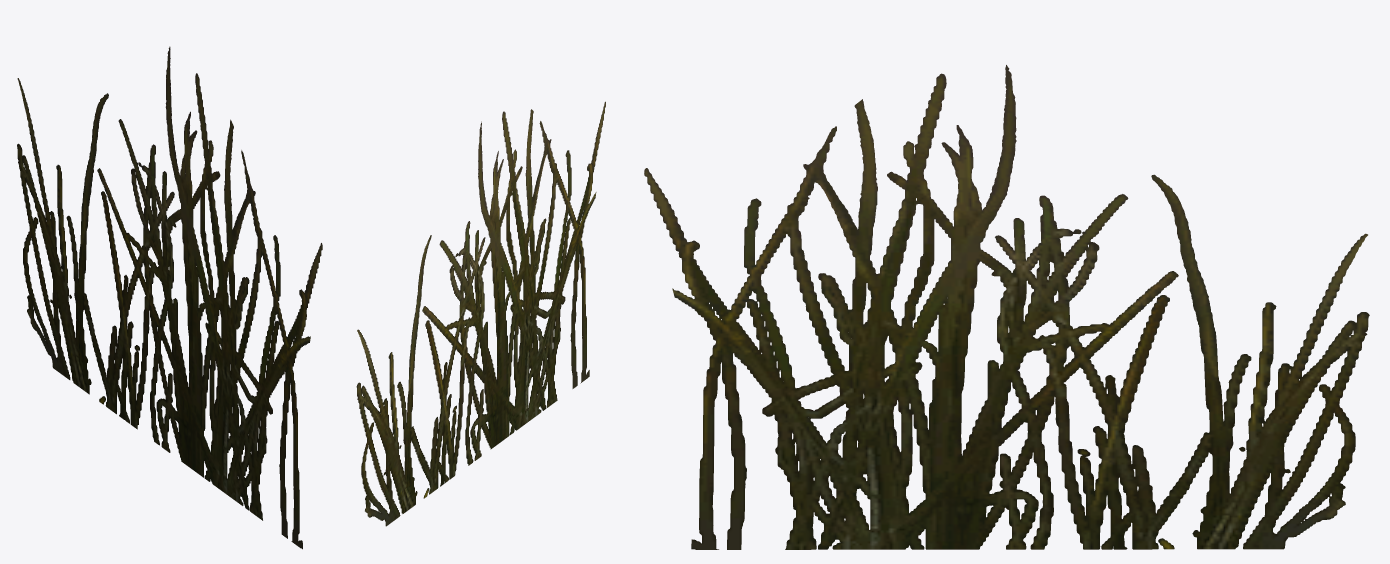
Rendered from Vegetation_Grass02New.glb.
3 renders of one model, left to right at view 1: azimuth 30°, elevation 25°; view 2: azimuth 150°, elevation 25°; view 3: azimuth 270°, elevation 25°, orthographic. The views are drawn at different scales.
Parts seen in each view (by area): view 1: xiutz_grass02_new; view 2: xiutz_grass02_new; view 3: xiutz_grass02_new.
Part boxes in pixels (left/top/right/bottom): xiutz_grass02_new: left=17, top=46, right=322, bottom=549; xiutz_grass02_new: left=356, top=101, right=605, bottom=526; xiutz_grass02_new: left=644, top=65, right=1369, bottom=549.
Size of the model in its own units: 0.000823 by 0.2856 by 0.3571.
Materials: 1 (1 with a texture image).
